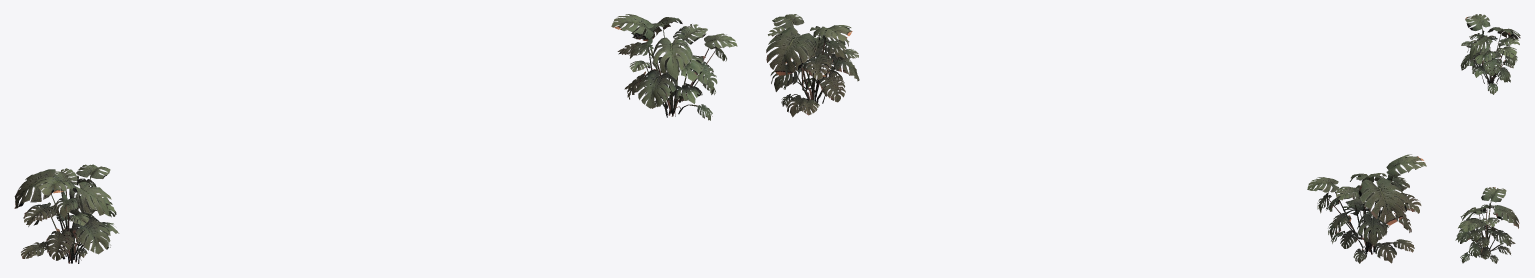
File: plantleaves.glb
3 renders of one model, left to right at view 1: azimuth 30°, elevation 25°; view 2: azimuth 150°, elevation 25°; view 3: azimuth 270°, elevation 25°, orthographic. The views are drawn at different scales.
Parts seen in each view (by area): view 1: plant.leaves_R, pant.leaves_L; view 2: pant.leaves_L, plant.leaves_R; view 3: pant.leaves_L, plant.leaves_R.
Part boxes in pixels (bbox=[...]): plant.leaves_R: bbox=[611, 14, 737, 120]; pant.leaves_L: bbox=[14, 164, 119, 263]; pant.leaves_L: bbox=[1307, 154, 1426, 263]; plant.leaves_R: bbox=[766, 14, 859, 117]; pant.leaves_L: bbox=[1460, 14, 1520, 94]; plant.leaves_R: bbox=[1455, 187, 1519, 263].
Size of the model in its own units: 6.98 by 0.997 by 0.9345.
1 material, 1 textured.
